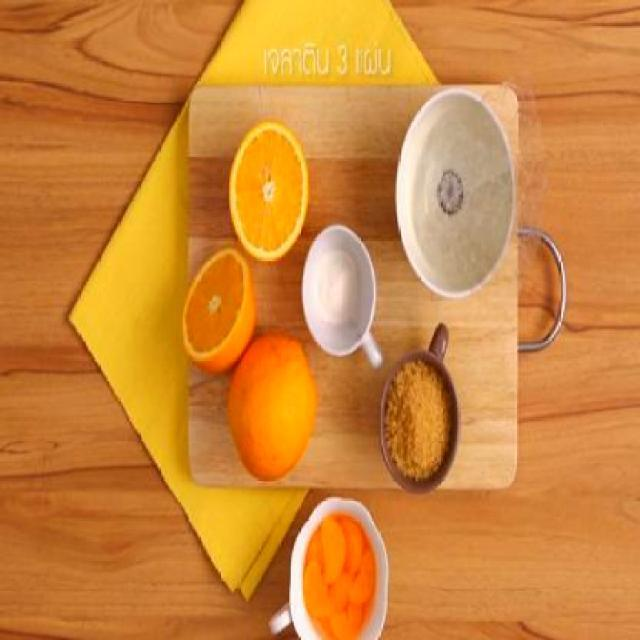Jeruk Sudah Matang: (230, 330, 318, 475)
